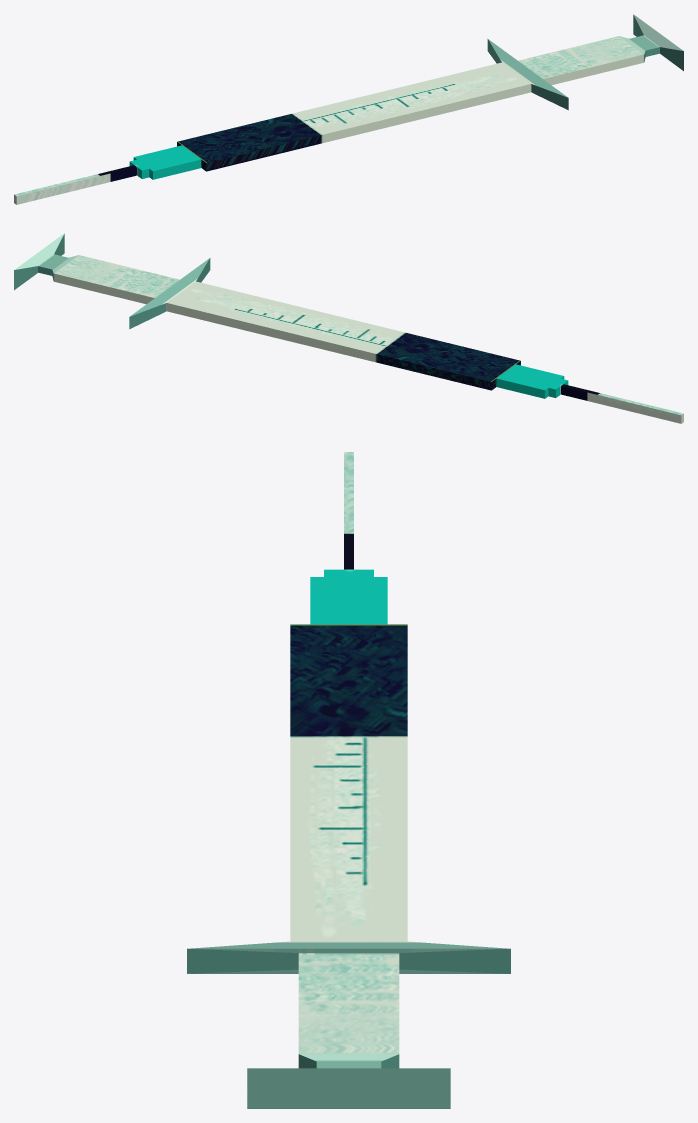
Rendered from SM_Needle.fbx.
3 renders of one model, top to bottom at view 1: azimuth 30°, elevation 25°; view 2: azimuth 150°, elevation 25°; view 3: azimuth 270°, elevation 25°, orthographic. The views are drawn at different scales.
Parts seen in each view (by area): view 1: SM_Needle; view 2: SM_Needle; view 3: SM_Needle.
Part boxes in pixels (<box>): SM_Needle: <box>14,14,683,204</box>; SM_Needle: <box>14,233,683,423</box>; SM_Needle: <box>187,452,510,1108</box>.
Bounding box in the file's own units: 0.9798 × 0.0296 × 0.2138.
